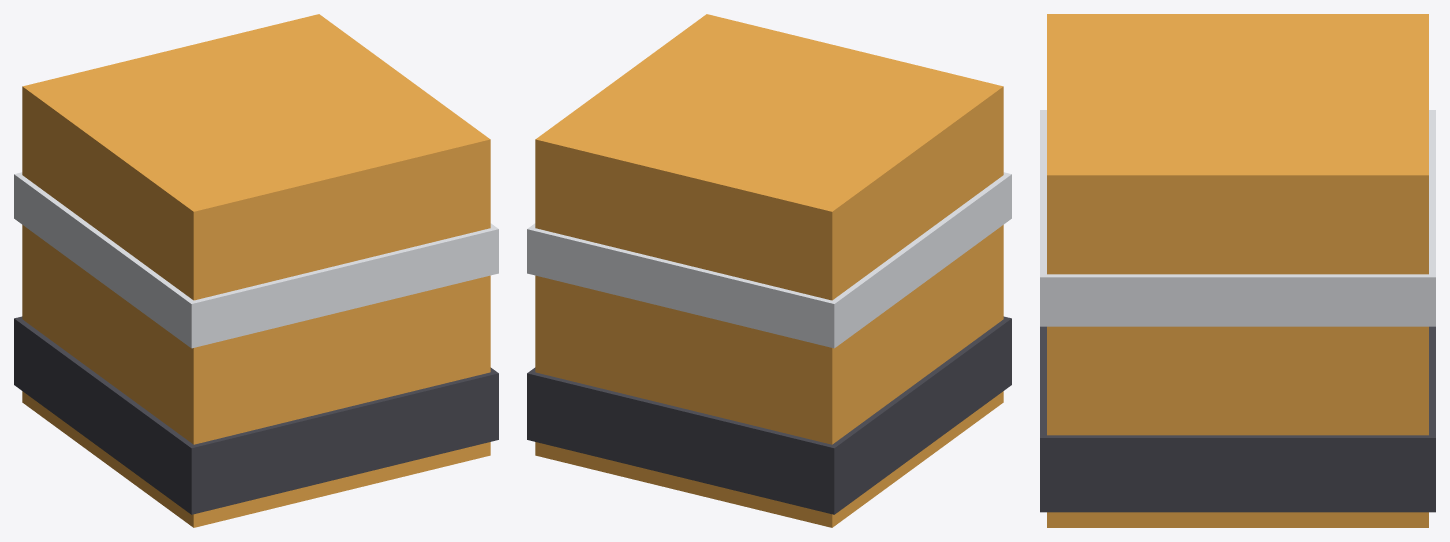
Rendered from mecanico_espacial_canela.glb.
The picture shows the model from 3 angles, left to right: view 1: azimuth 30°, elevation 25°; view 2: azimuth 150°, elevation 25°; view 3: azimuth 270°, elevation 25°; orthographic projection. The views are drawn at different scales.
Parts seen in each view (by area): view 1: mecanico_espacial_canela; view 2: mecanico_espacial_canela; view 3: mecanico_espacial_canela.
Boxes of the visible parts, box(x1,y1,x2,y2) form: mecanico_espacial_canela: box(14, 14, 498, 527); mecanico_espacial_canela: box(527, 14, 1011, 527); mecanico_espacial_canela: box(1040, 14, 1435, 527).
Size of the model in its own units: 0.29 by 0.285 by 0.29.
